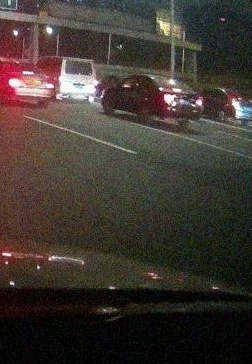L_light: (8, 77, 22, 88), (163, 93, 174, 103), (59, 76, 66, 83)
R_light: (46, 79, 55, 89), (194, 99, 202, 106), (93, 80, 96, 85)
T_light: (22, 70, 34, 74), (173, 89, 183, 92), (75, 61, 82, 63)
night-left: (149, 76, 203, 123), (4, 60, 55, 106)
night-no: (57, 57, 96, 102)
